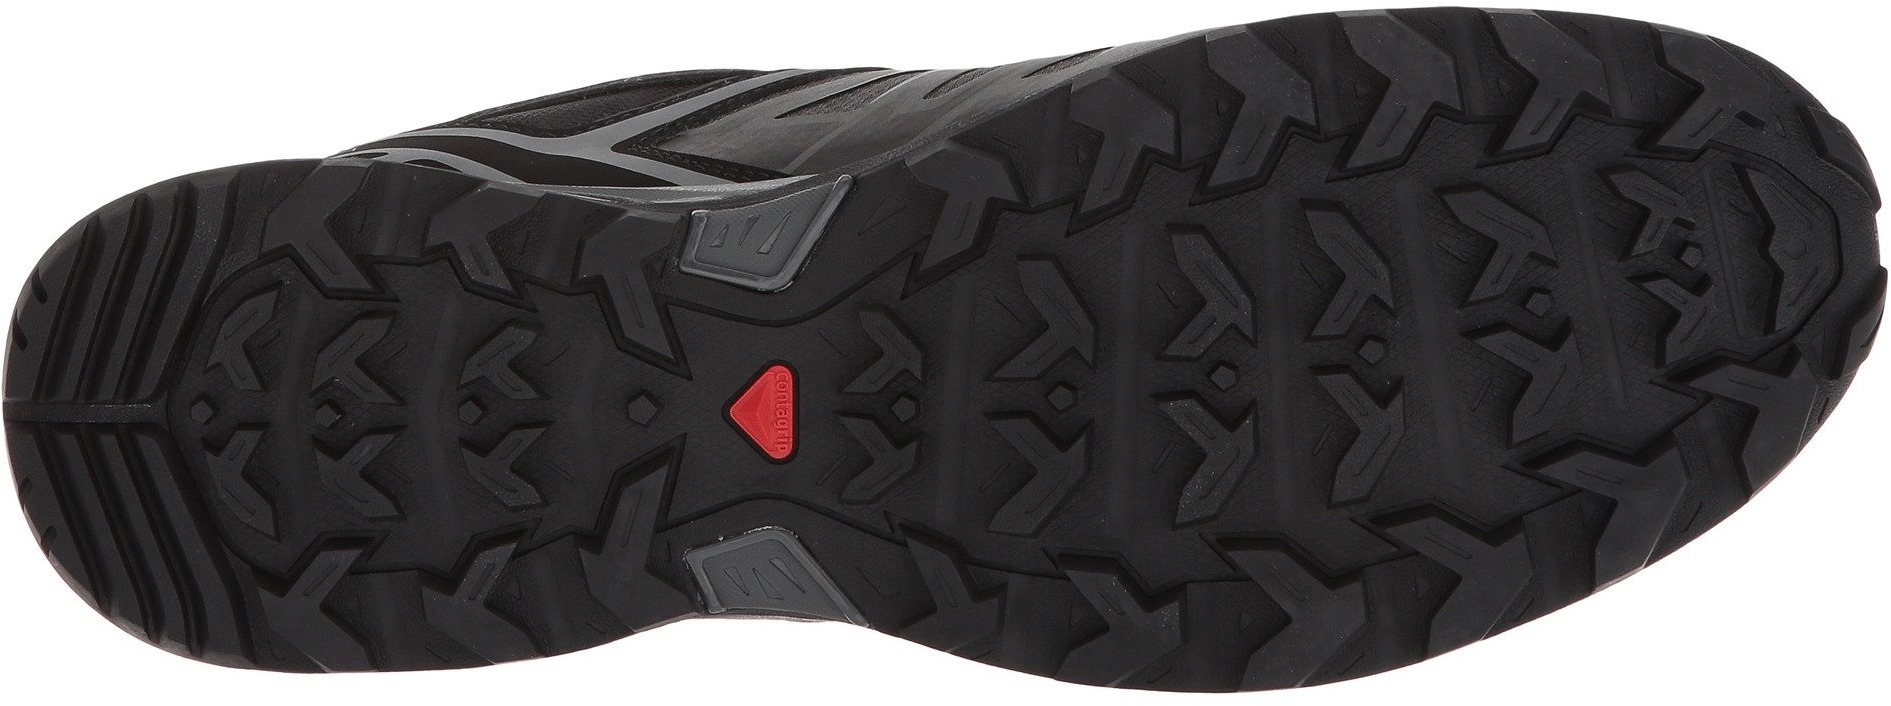chevron: (1054, 25, 1711, 647), (254, 196, 689, 620), (813, 251, 1116, 549), (19, 297, 246, 515), (1704, 161, 1889, 343)
exclude: (627, 608, 878, 705)
triangle: (706, 352, 819, 467)
